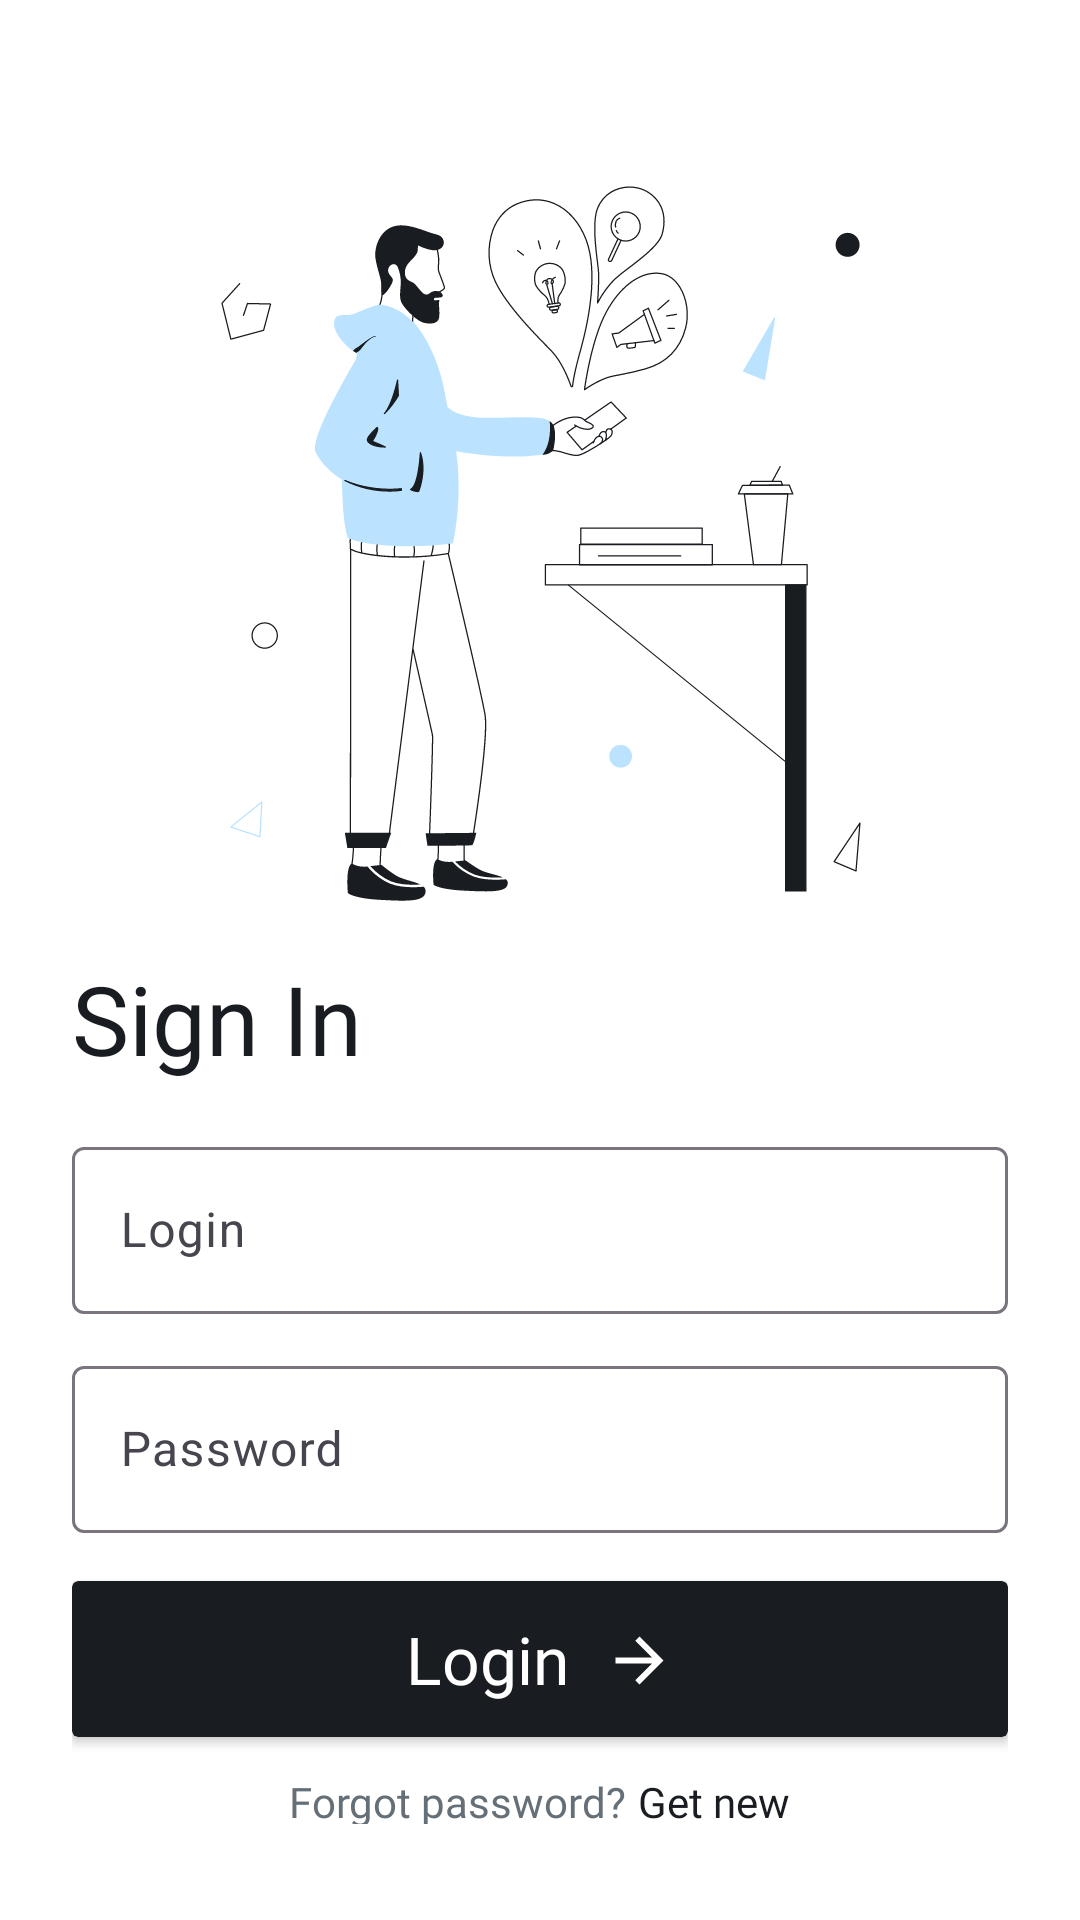

Icons on this 1080 × 1920 Android screen, each with the point to tap as (x,y):
arrow right: (639,1660)
